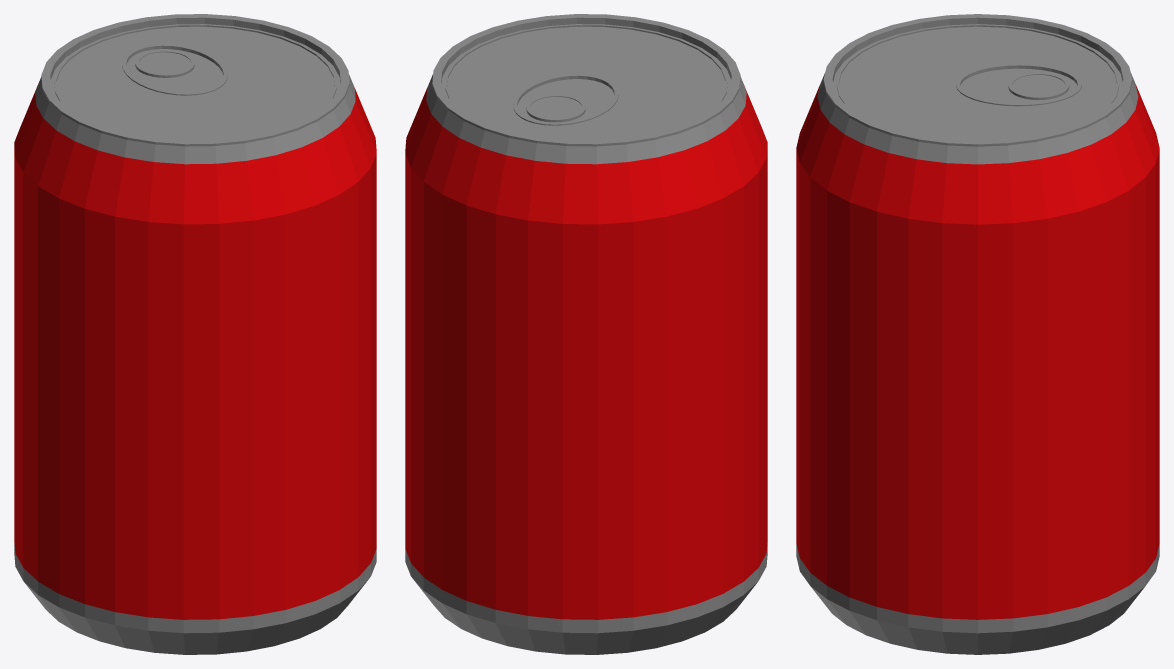
Rendered from red_pop_can.fbx.
The picture shows the model from 3 angles, left to right: view 1: azimuth 30°, elevation 25°; view 2: azimuth 150°, elevation 25°; view 3: azimuth 270°, elevation 25°; orthographic projection.
Visible parts, largest first — view 1: pop can.red; view 2: pop can.red; view 3: pop can.red.
Part boxes in pixels (x1,y1,x2,y2): pop can.red: (14,14,376,654); pop can.red: (405,14,767,654); pop can.red: (796,14,1159,654).
Size of the model in its own units: 68.75 by 106 by 68.75.
